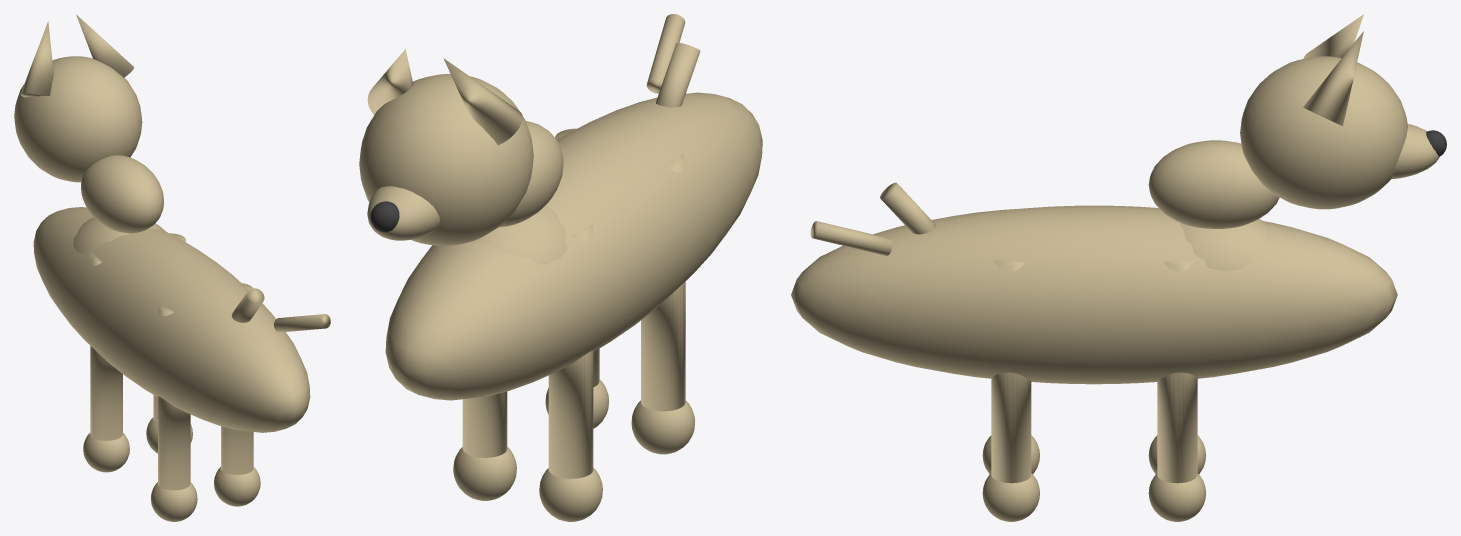
File: canine-lying.glb
The picture shows the model from 3 angles, left to right: view 1: azimuth 30°, elevation 25°; view 2: azimuth 150°, elevation 25°; view 3: azimuth 270°, elevation 25°; orthographic projection. The views are drawn at different scales.
Parts seen in each view (by area): view 1: Body; view 2: Body; view 3: Body.
Boxes of the visible parts, x1,y1,x2,y2 form: Body: (14, 14, 330, 521); Body: (359, 14, 762, 521); Body: (791, 14, 1446, 521).
Size of the model in its own units: 0.28 by 0.826 by 1.03.
